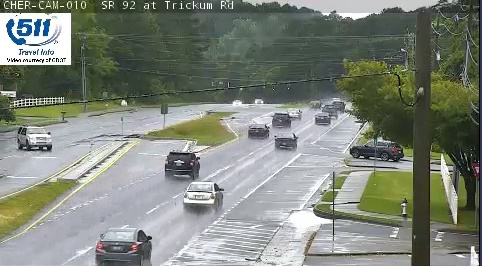car: (96, 228, 152, 266), (183, 182, 223, 208), (164, 151, 199, 176), (274, 132, 297, 149), (247, 123, 267, 138), (272, 113, 290, 127), (284, 108, 300, 120), (315, 113, 329, 125)
